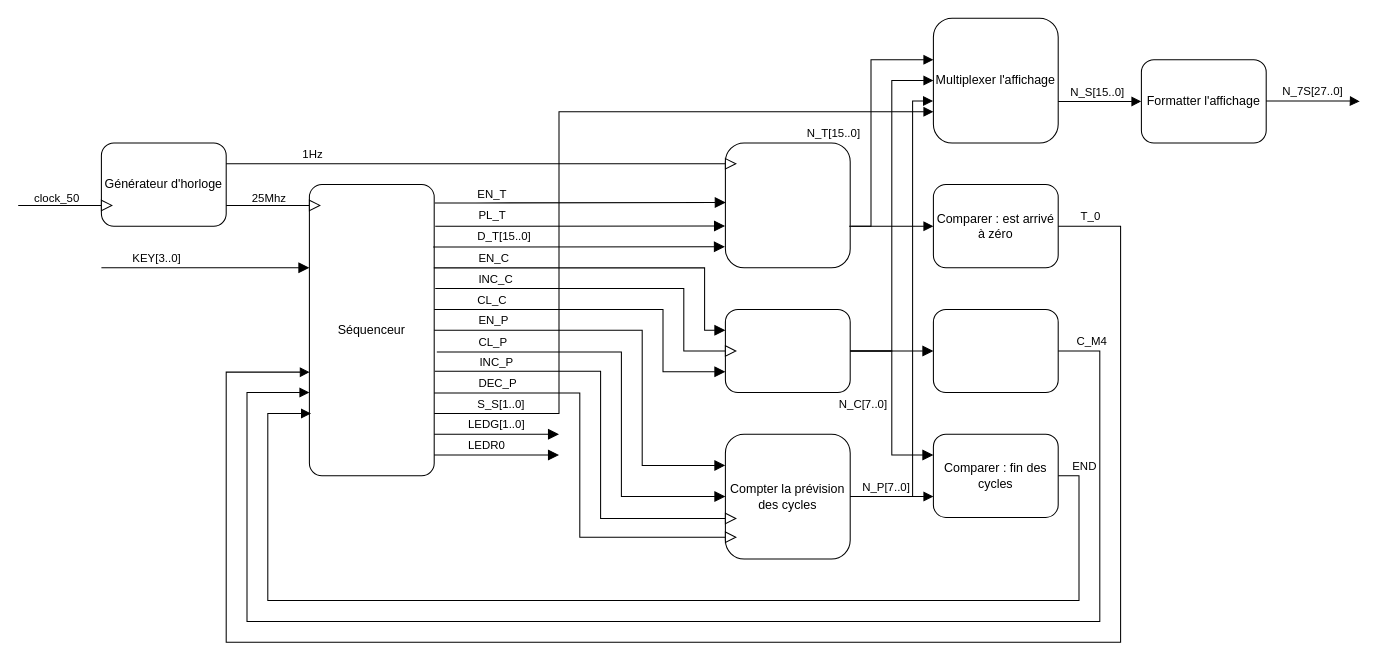
Some shapes in this 1387 by 670 pixel diagram are drawn without their labels. Here are the shapes that lost their labels. From the top down, the centre of each, then its label:
(x=787, y=205): Compter le temps
(x=787, y=350): Compter les cycles
(x=995, y=350): Comparer : est un multiple de 4
